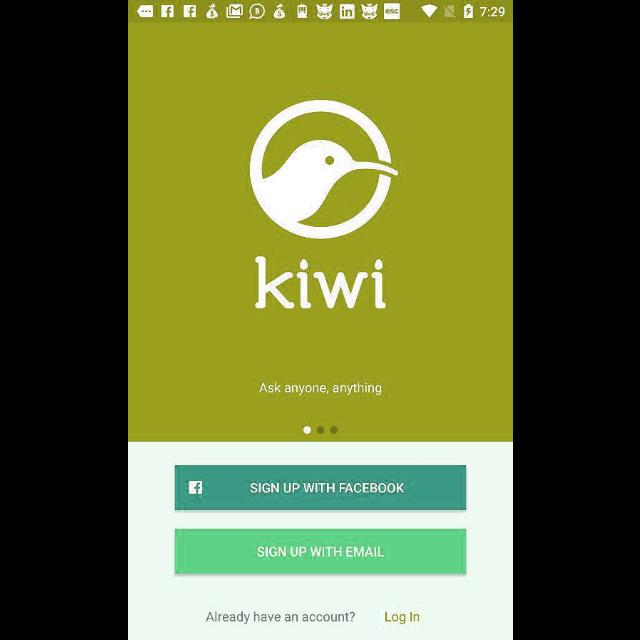image: (249, 100, 399, 240), (254, 256, 386, 310)
pageindicator: (302, 426, 338, 434)
text: (206, 611, 354, 625), (258, 382, 382, 396), (384, 611, 418, 625)
textbutton: (174, 466, 466, 510), (174, 529, 466, 573)
uppertaskbar: (128, 1, 512, 23)
